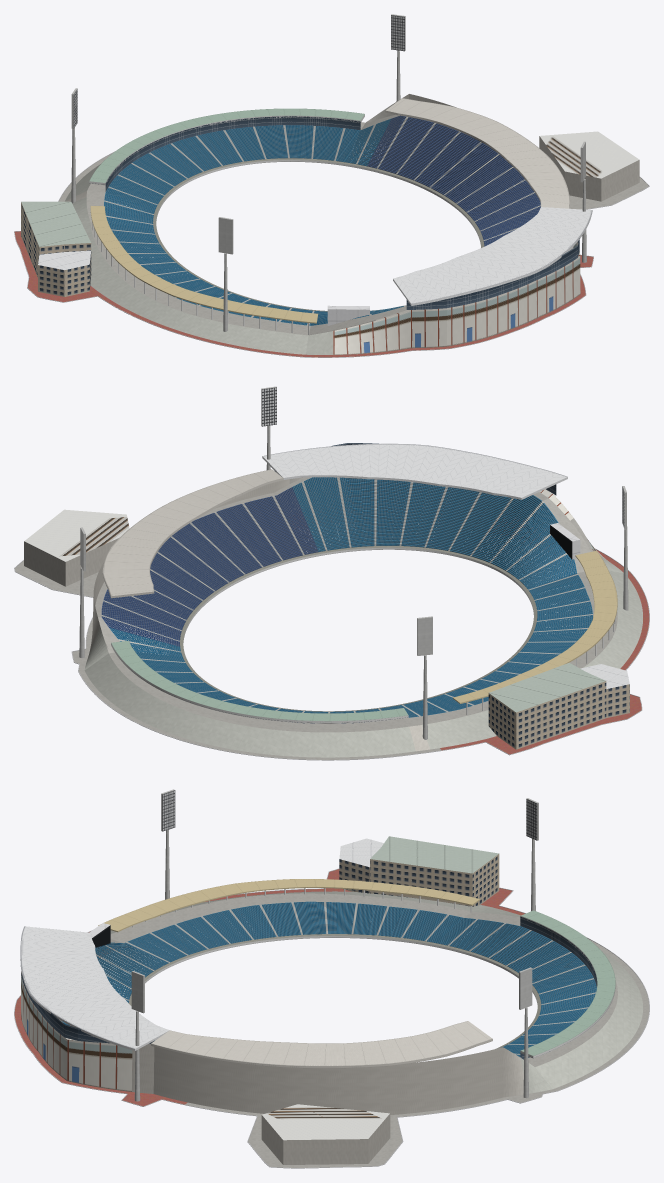
File: B_football_park.glb
The picture shows the model from 3 angles, top to bottom: view 1: azimuth 30°, elevation 25°; view 2: azimuth 150°, elevation 25°; view 3: azimuth 270°, elevation 25°; orthographic projection. The views are drawn at different scales.
Visible parts, largest first — view 1: seat_lb, seat_navy, facade, white, riser, riser_navy, embank, west_roof, deck, glass, tan, nw_roof (+11 smaller); view 2: seat_lb, riser, seat_navy, embank, white, riser_navy, deck, west_roof, admin, tan, west_back, nw_roof (+8 smaller); view 3: west_back, seat_lb, riser, white, deck, west_roof, embank, facade, admin, tan, nw_roof, box_roof (+8 smaller).
Boxes of the visible parts, bbox=[...] form: seat_lb: bbox=[104, 118, 406, 325]; seat_navy: bbox=[367, 115, 540, 246]; facade: bbox=[333, 242, 580, 354]; white: bbox=[38, 207, 592, 305]; riser: bbox=[109, 119, 391, 209]; riser_navy: bbox=[367, 116, 540, 243]; embank: bbox=[65, 125, 390, 354]; west_roof: bbox=[385, 98, 569, 208]; deck: bbox=[59, 102, 648, 335]; glass: bbox=[105, 116, 579, 309]; tan: bbox=[90, 206, 318, 323]; nw_roof: bbox=[540, 131, 639, 178]; seat_lb: bbox=[109, 477, 592, 717]; riser: bbox=[163, 477, 584, 647]; seat_navy: bbox=[101, 487, 318, 646]; embank: bbox=[84, 550, 642, 757]; white: bbox=[262, 443, 629, 689]; riser_navy: bbox=[103, 488, 318, 639]; deck: bbox=[15, 477, 617, 759]; west_roof: bbox=[102, 469, 283, 598]; admin: bbox=[488, 681, 629, 749]; tan: bbox=[453, 551, 617, 703]; west_back: bbox=[24, 479, 430, 751]; nw_roof: bbox=[24, 509, 129, 561]; west_back: bbox=[132, 1044, 523, 1164]; seat_lb: bbox=[62, 901, 596, 1056]; riser: bbox=[95, 902, 592, 1002]; white: bbox=[20, 838, 383, 1050]; deck: bbox=[59, 893, 649, 1167]; west_roof: bbox=[151, 1021, 492, 1068]; embank: bbox=[110, 891, 642, 1093]; facade: bbox=[21, 971, 132, 1091]; admin: bbox=[339, 854, 499, 906]; tan: bbox=[98, 879, 480, 932]; nw_roof: bbox=[262, 1104, 389, 1140]; box_roof: bbox=[521, 910, 615, 1055].
Size of the model in its own units: 314 by 61.05 by 278.
26 materials, 26 textured.
